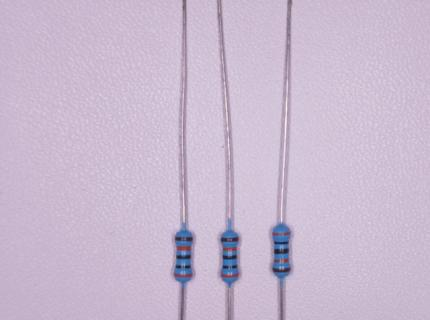Black band: (275, 249, 289, 254), (177, 255, 191, 259), (223, 265, 237, 269), (223, 255, 237, 259), (176, 265, 190, 268), (275, 242, 289, 244)
Brown band: (273, 267, 290, 272), (222, 237, 238, 242), (175, 237, 193, 241)
Orange band: (174, 273, 192, 277), (222, 273, 239, 277), (177, 246, 191, 250), (223, 247, 237, 251), (273, 232, 291, 235), (275, 259, 289, 262)
